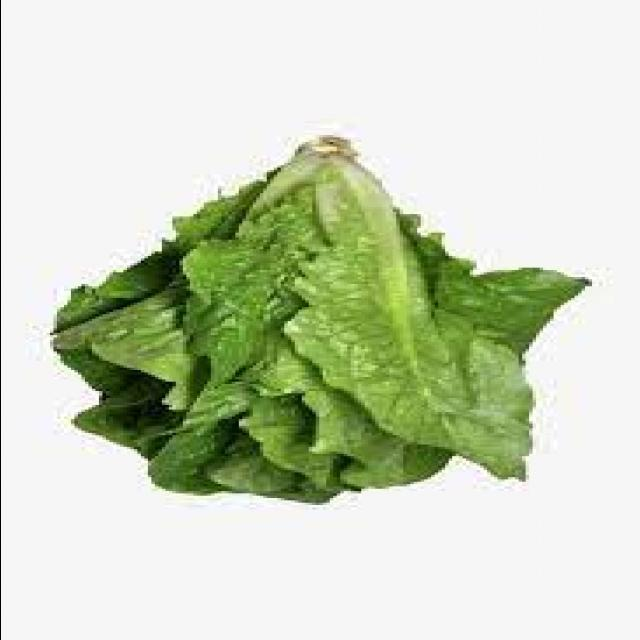Lettuce: (50, 128, 583, 510)
